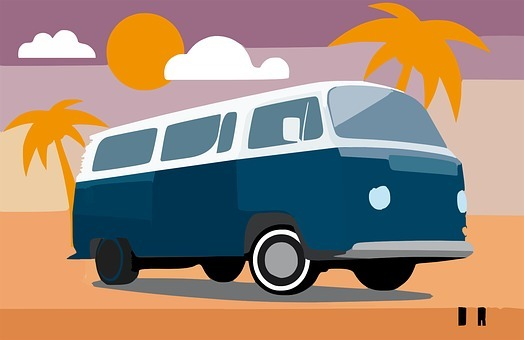bus: (68, 79, 472, 291)
